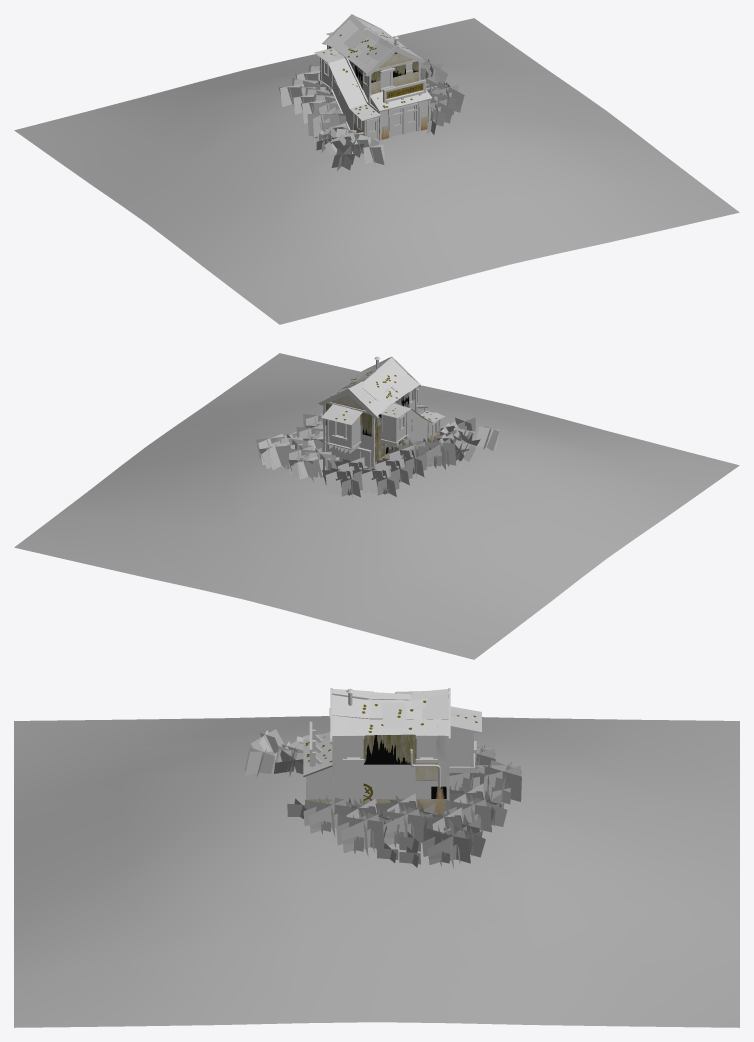
The picture shows the model from 3 angles, top to bottom: view 1: azimuth 30°, elevation 25°; view 2: azimuth 150°, elevation 25°; view 3: azimuth 270°, elevation 25°; orthographic projection. The views are drawn at different scales.
Parts seen in each view (by area): view 1: house; view 2: house; view 3: house.
Boxes of the visible parts, x1,y1,x2,y2 form: house: (14,14,739,324); house: (14,353,739,659); house: (14,688,739,1027).
Size of the model in its own units: 4025 by 1169 by 4025.
